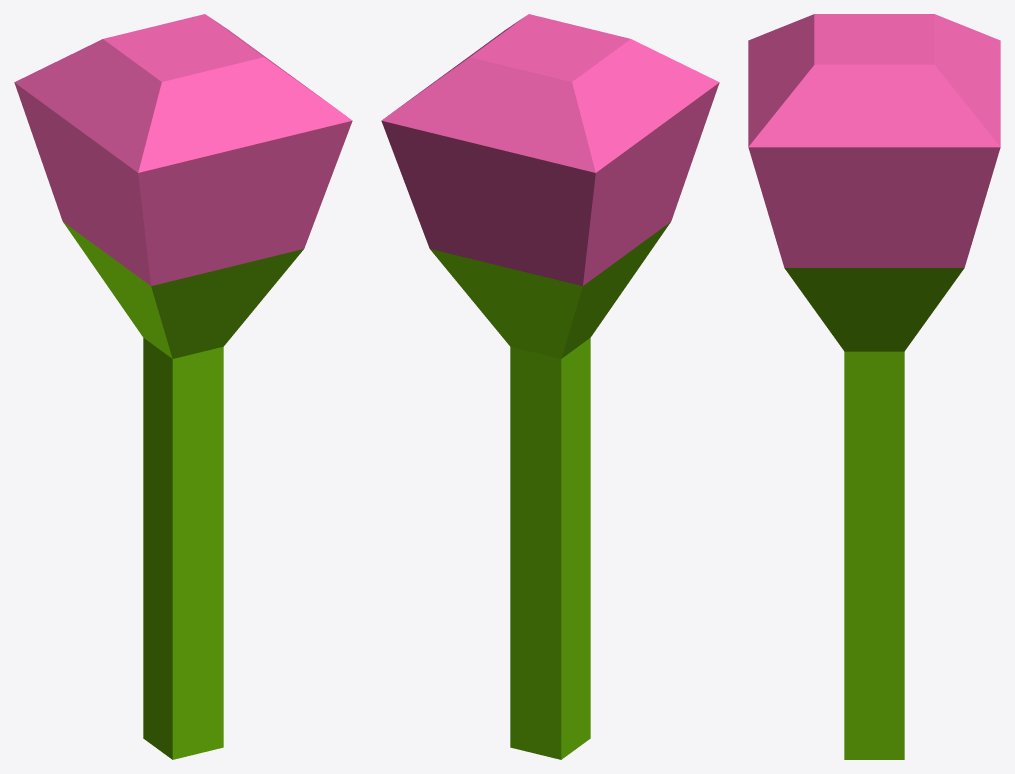
Rendered from Flower_02_Bud.fbx.
3 views of the same model, side by side, from view 1: azimuth 30°, elevation 25°; view 2: azimuth 150°, elevation 25°; view 3: azimuth 270°, elevation 25° (orthographic).
Visible parts, largest first — view 1: Flower_02_Bud; view 2: Flower_02_Bud; view 3: Flower_02_Bud.
Boxes of the visible parts, x1=… form: Flower_02_Bud: x1=14, y1=14, x2=352, y2=759; Flower_02_Bud: x1=381, y1=14, x2=719, y2=759; Flower_02_Bud: x1=748, y1=14, x2=1000, y2=759.
Bounding box in the file's own units: 8.4 × 26 × 8.4.
